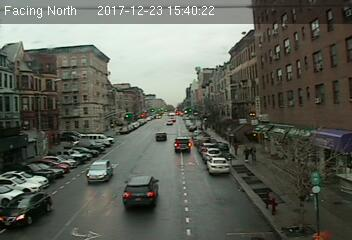car: (123, 175, 161, 207), (85, 159, 112, 183), (205, 157, 231, 174), (173, 137, 192, 153), (155, 132, 167, 142)
